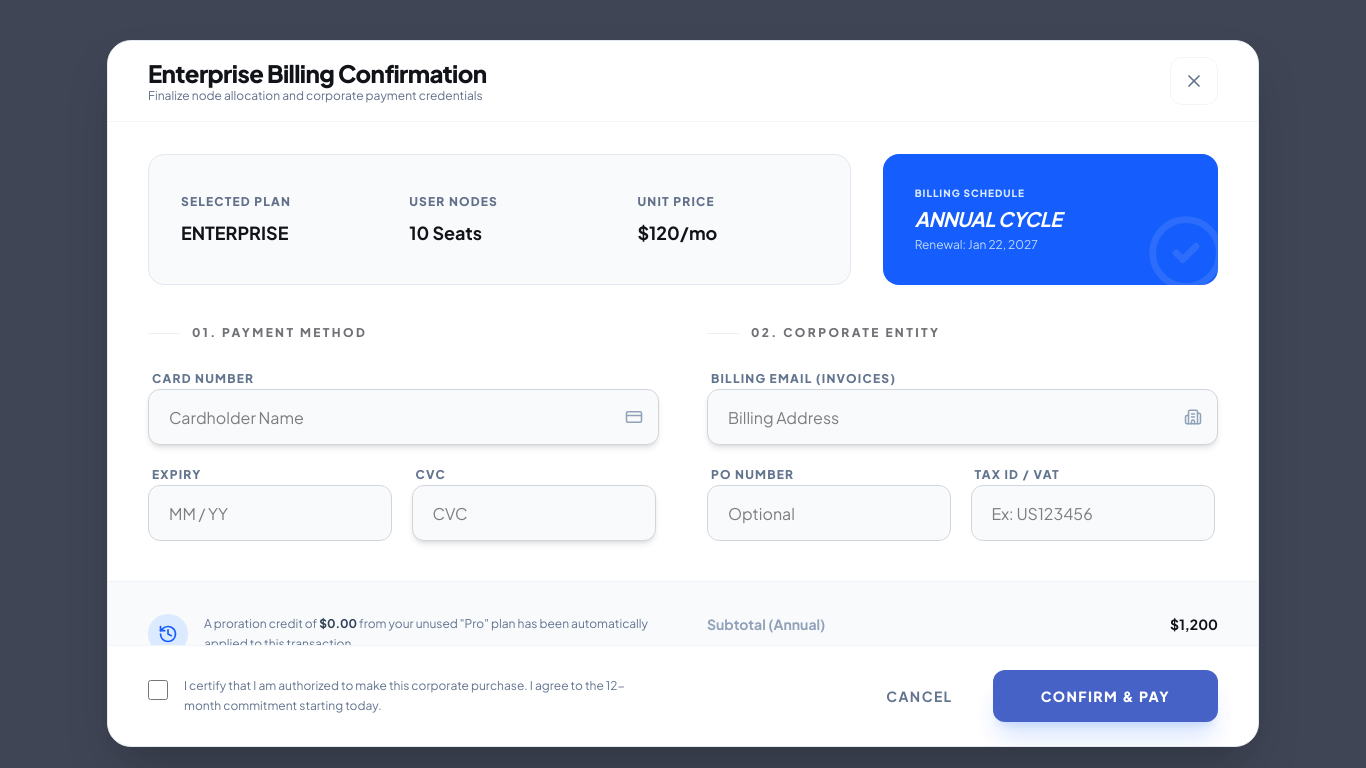
Test: ConfirmPaymentModal Component › renders payment modal and requires agreement before pay
The image size is (1366, 768).
expect the heading "Enterprise Billing Confirmation" is shown: met, box [148,58,486,88]
expect the button "Confirm & Pay" is disabled: met, box [993,670,1218,722]
Step 1. Click the checkbox → (158, 690), box [148,680,168,700]
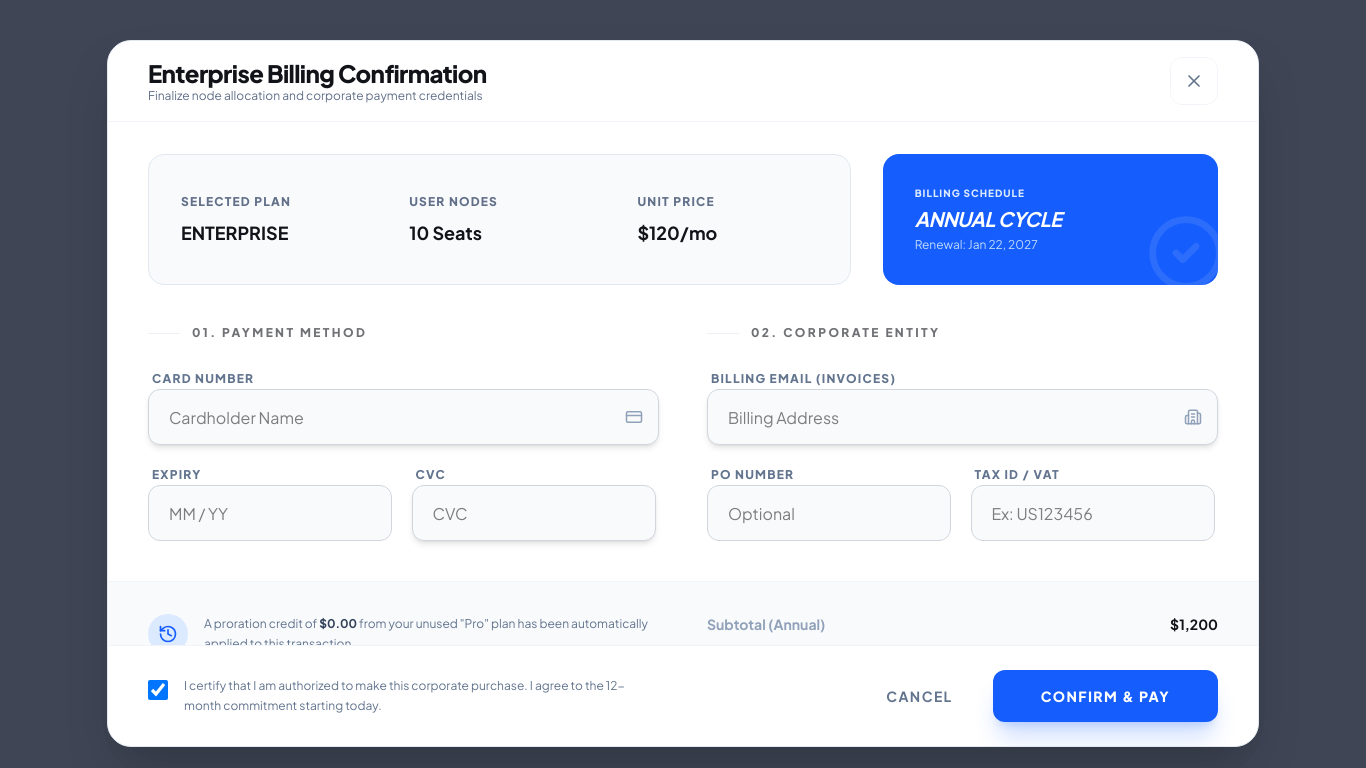
expect the button "Confirm & Pay" is enabled: met, box [993,670,1218,722]
